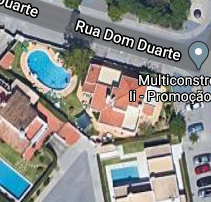pool: (26, 51, 72, 91), (1, 162, 28, 197), (112, 167, 140, 182)
